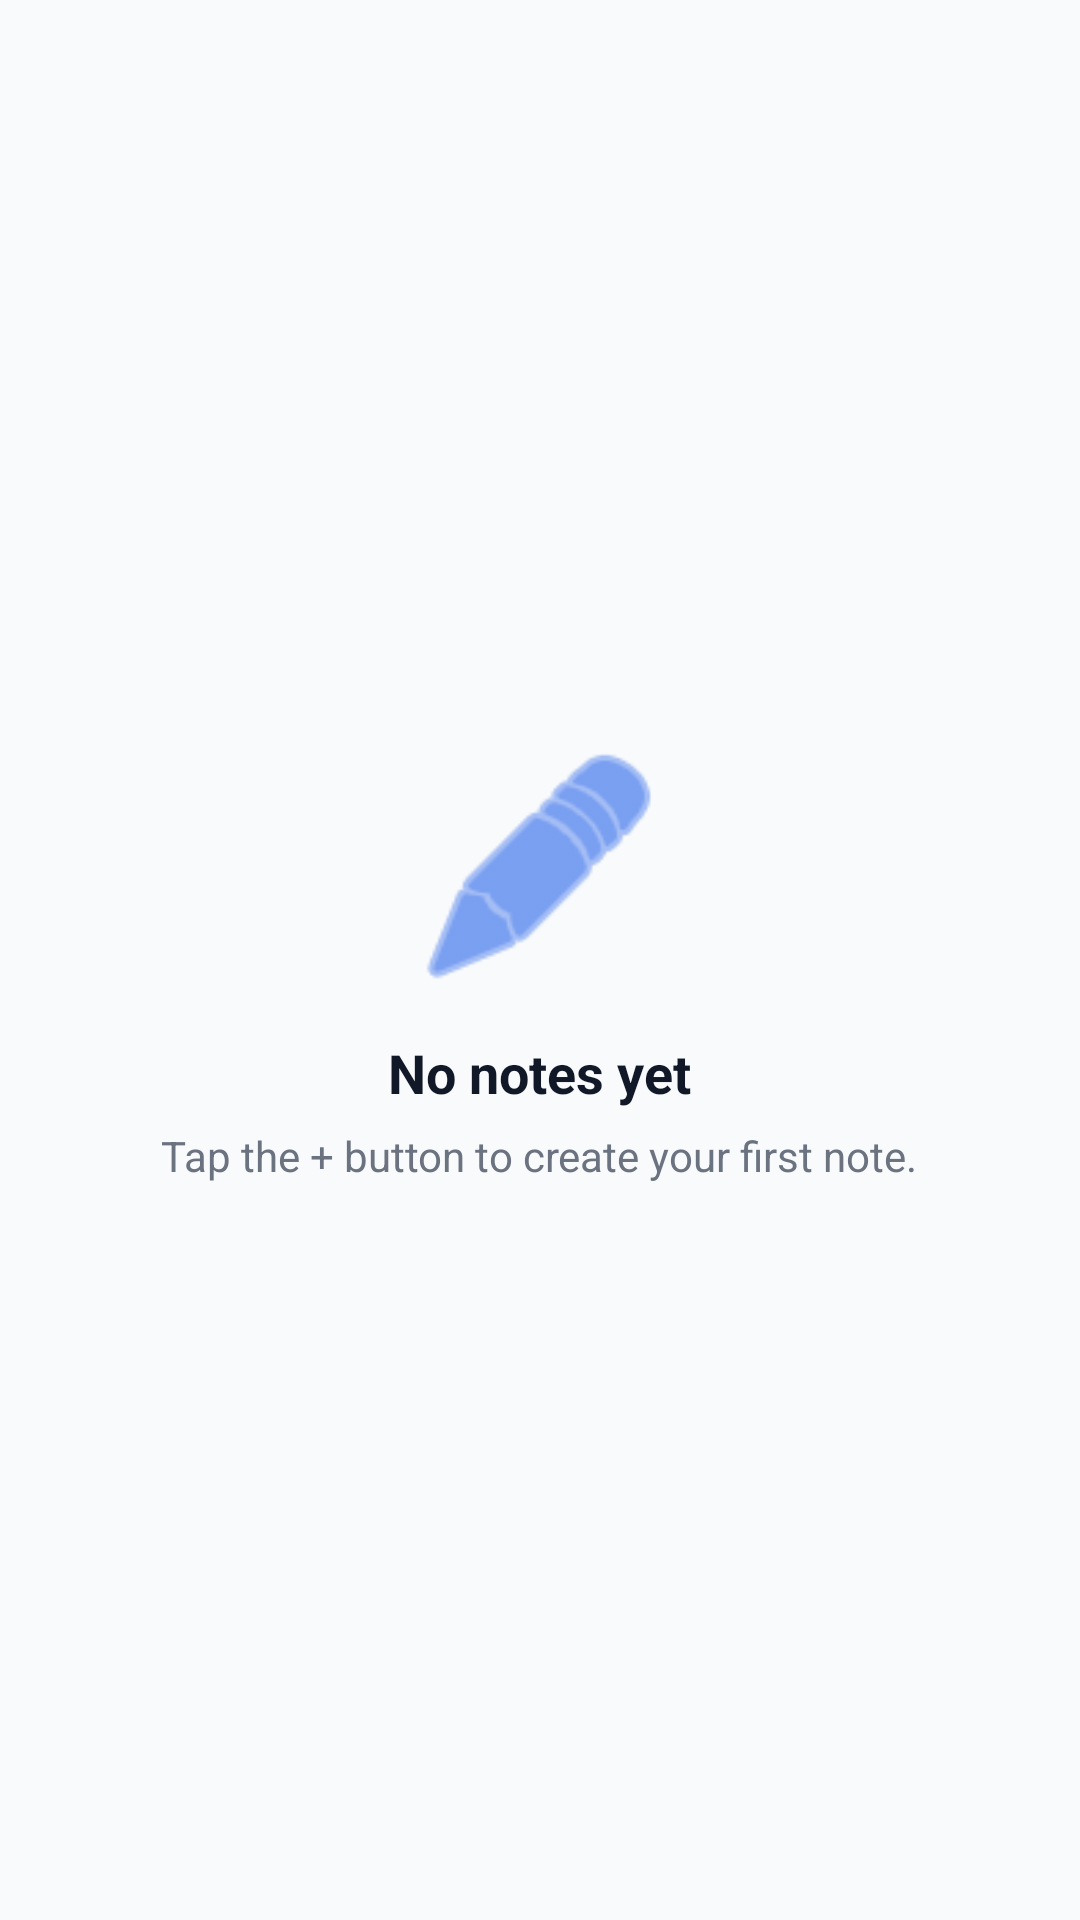

Where icons sit on this 1080 × 1920 app screen, as Rect(x1, y1, x2, y2):
edit: Rect(427, 755, 651, 978)
